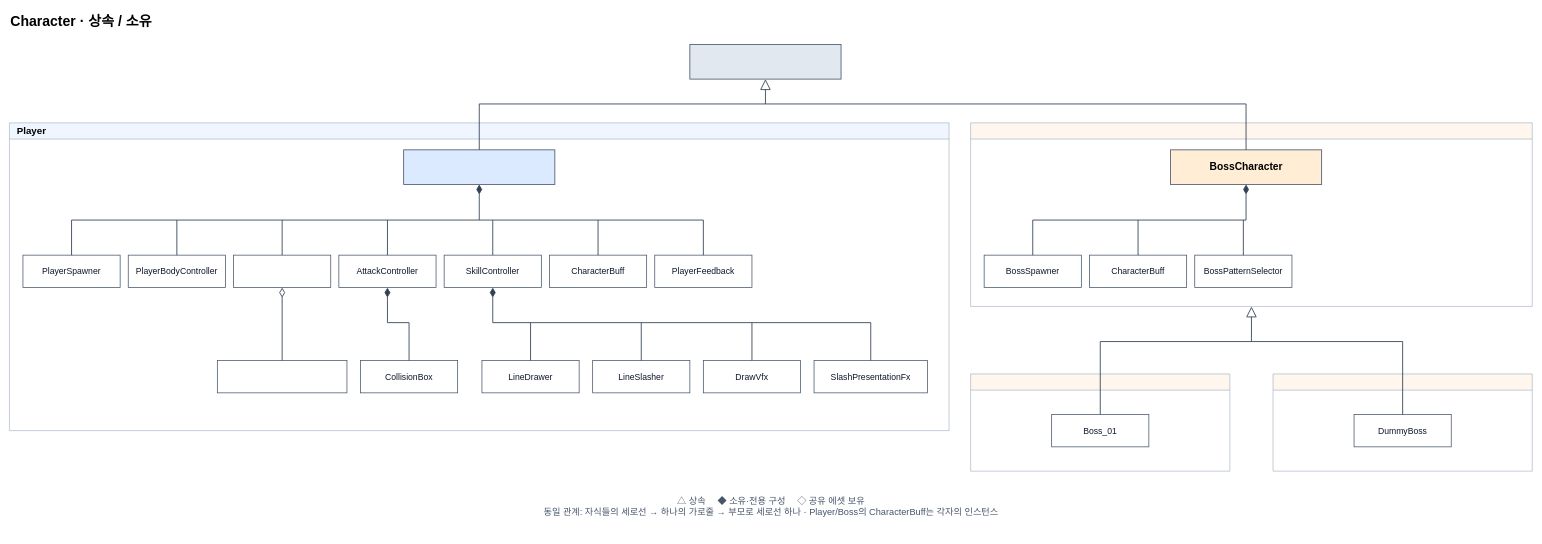
This 1542x544 diagram has some shape labels left out. Each missing label, with the box of its shape:
Boss_01 · 경비: (970, 373, 1230, 471)
BossCharacter · 공통: (970, 122, 1532, 306)
Character: (689, 44, 841, 79)
CharacterRendering: (233, 255, 331, 288)
DummyBoss · 시험: (1273, 373, 1532, 471)
PlayerCharacter: (403, 149, 555, 185)
PlayerSpriteAnimationSet: (217, 360, 347, 393)
